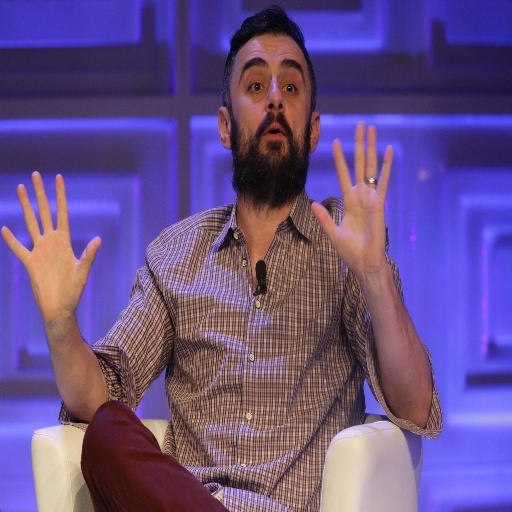hand: (11, 172, 94, 364), (308, 117, 393, 279)
